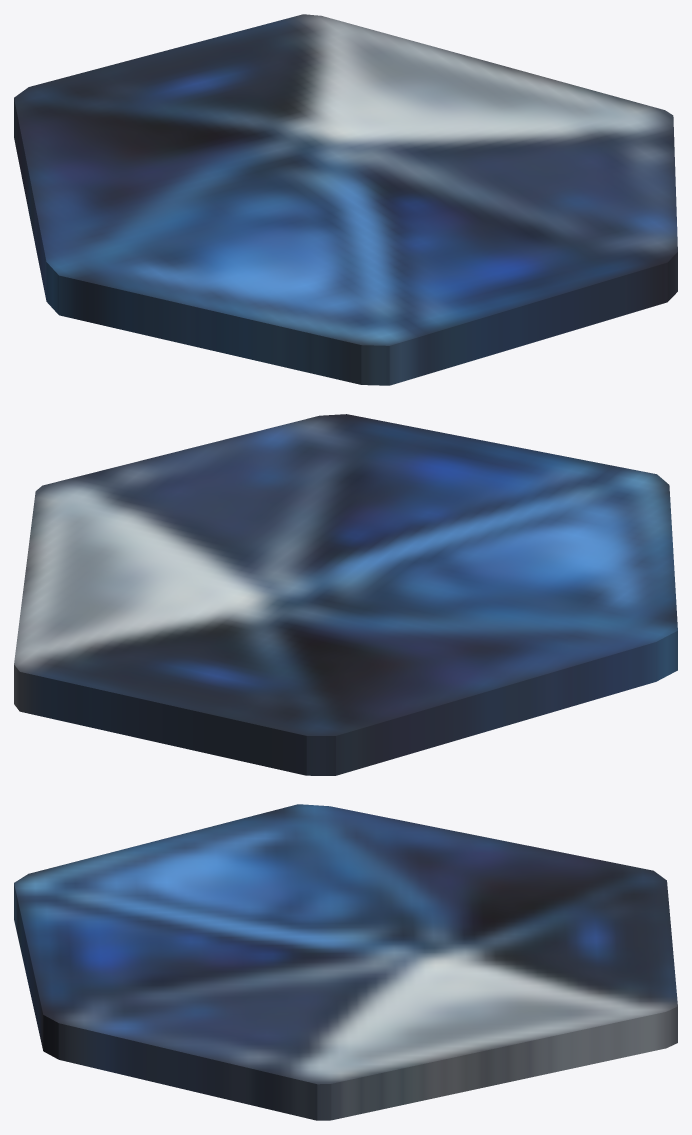
The model's file is Mana.glb.
3 renders of one model, top to bottom at view 1: azimuth 30°, elevation 25°; view 2: azimuth 150°, elevation 25°; view 3: azimuth 270°, elevation 25°, orthographic. The views are drawn at different scales.
Parts seen in each view (by area): view 1: 7+; view 2: 7+; view 3: 7+.
Boxes of the visible parts, left/top/right/bottom form: 7+: left=14, top=14, right=677, bottom=385; 7+: left=14, top=414, right=677, bottom=775; 7+: left=14, top=804, right=677, bottom=1120.
Bounding box in the file's own units: 1.13 × 0.0687 × 1.13.
1 material, 1 textured.
